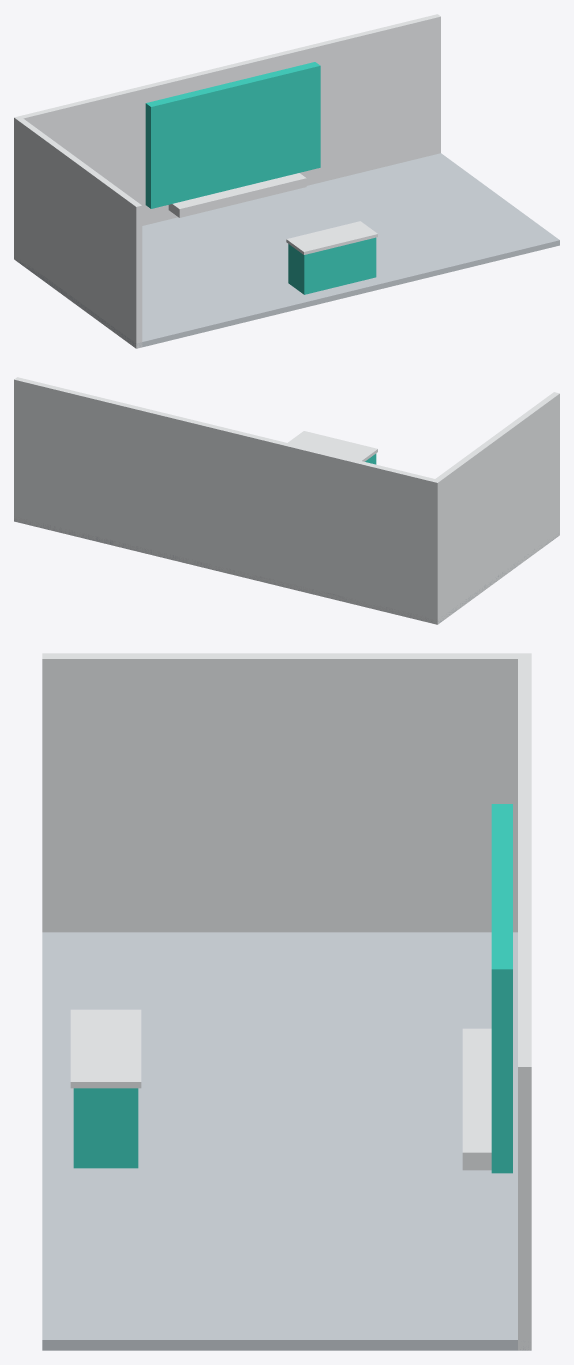
3 renders of one model, top to bottom at view 1: azimuth 30°, elevation 25°; view 2: azimuth 150°, elevation 25°; view 3: azimuth 270°, elevation 25°, orthographic. The views are drawn at different scales.
Parts seen in each view (by area): view 1: Exhibition Booth Concept; view 2: Exhibition Booth Concept; view 3: Exhibition Booth Concept.
Boxes of the visible parts, x1,y1,x2,y2 form: Exhibition Booth Concept: [14, 14, 559, 348]; Exhibition Booth Concept: [14, 377, 559, 624]; Exhibition Booth Concept: [42, 653, 531, 1350].
Size of the model in its own units: 10 by 3.2 by 5.
